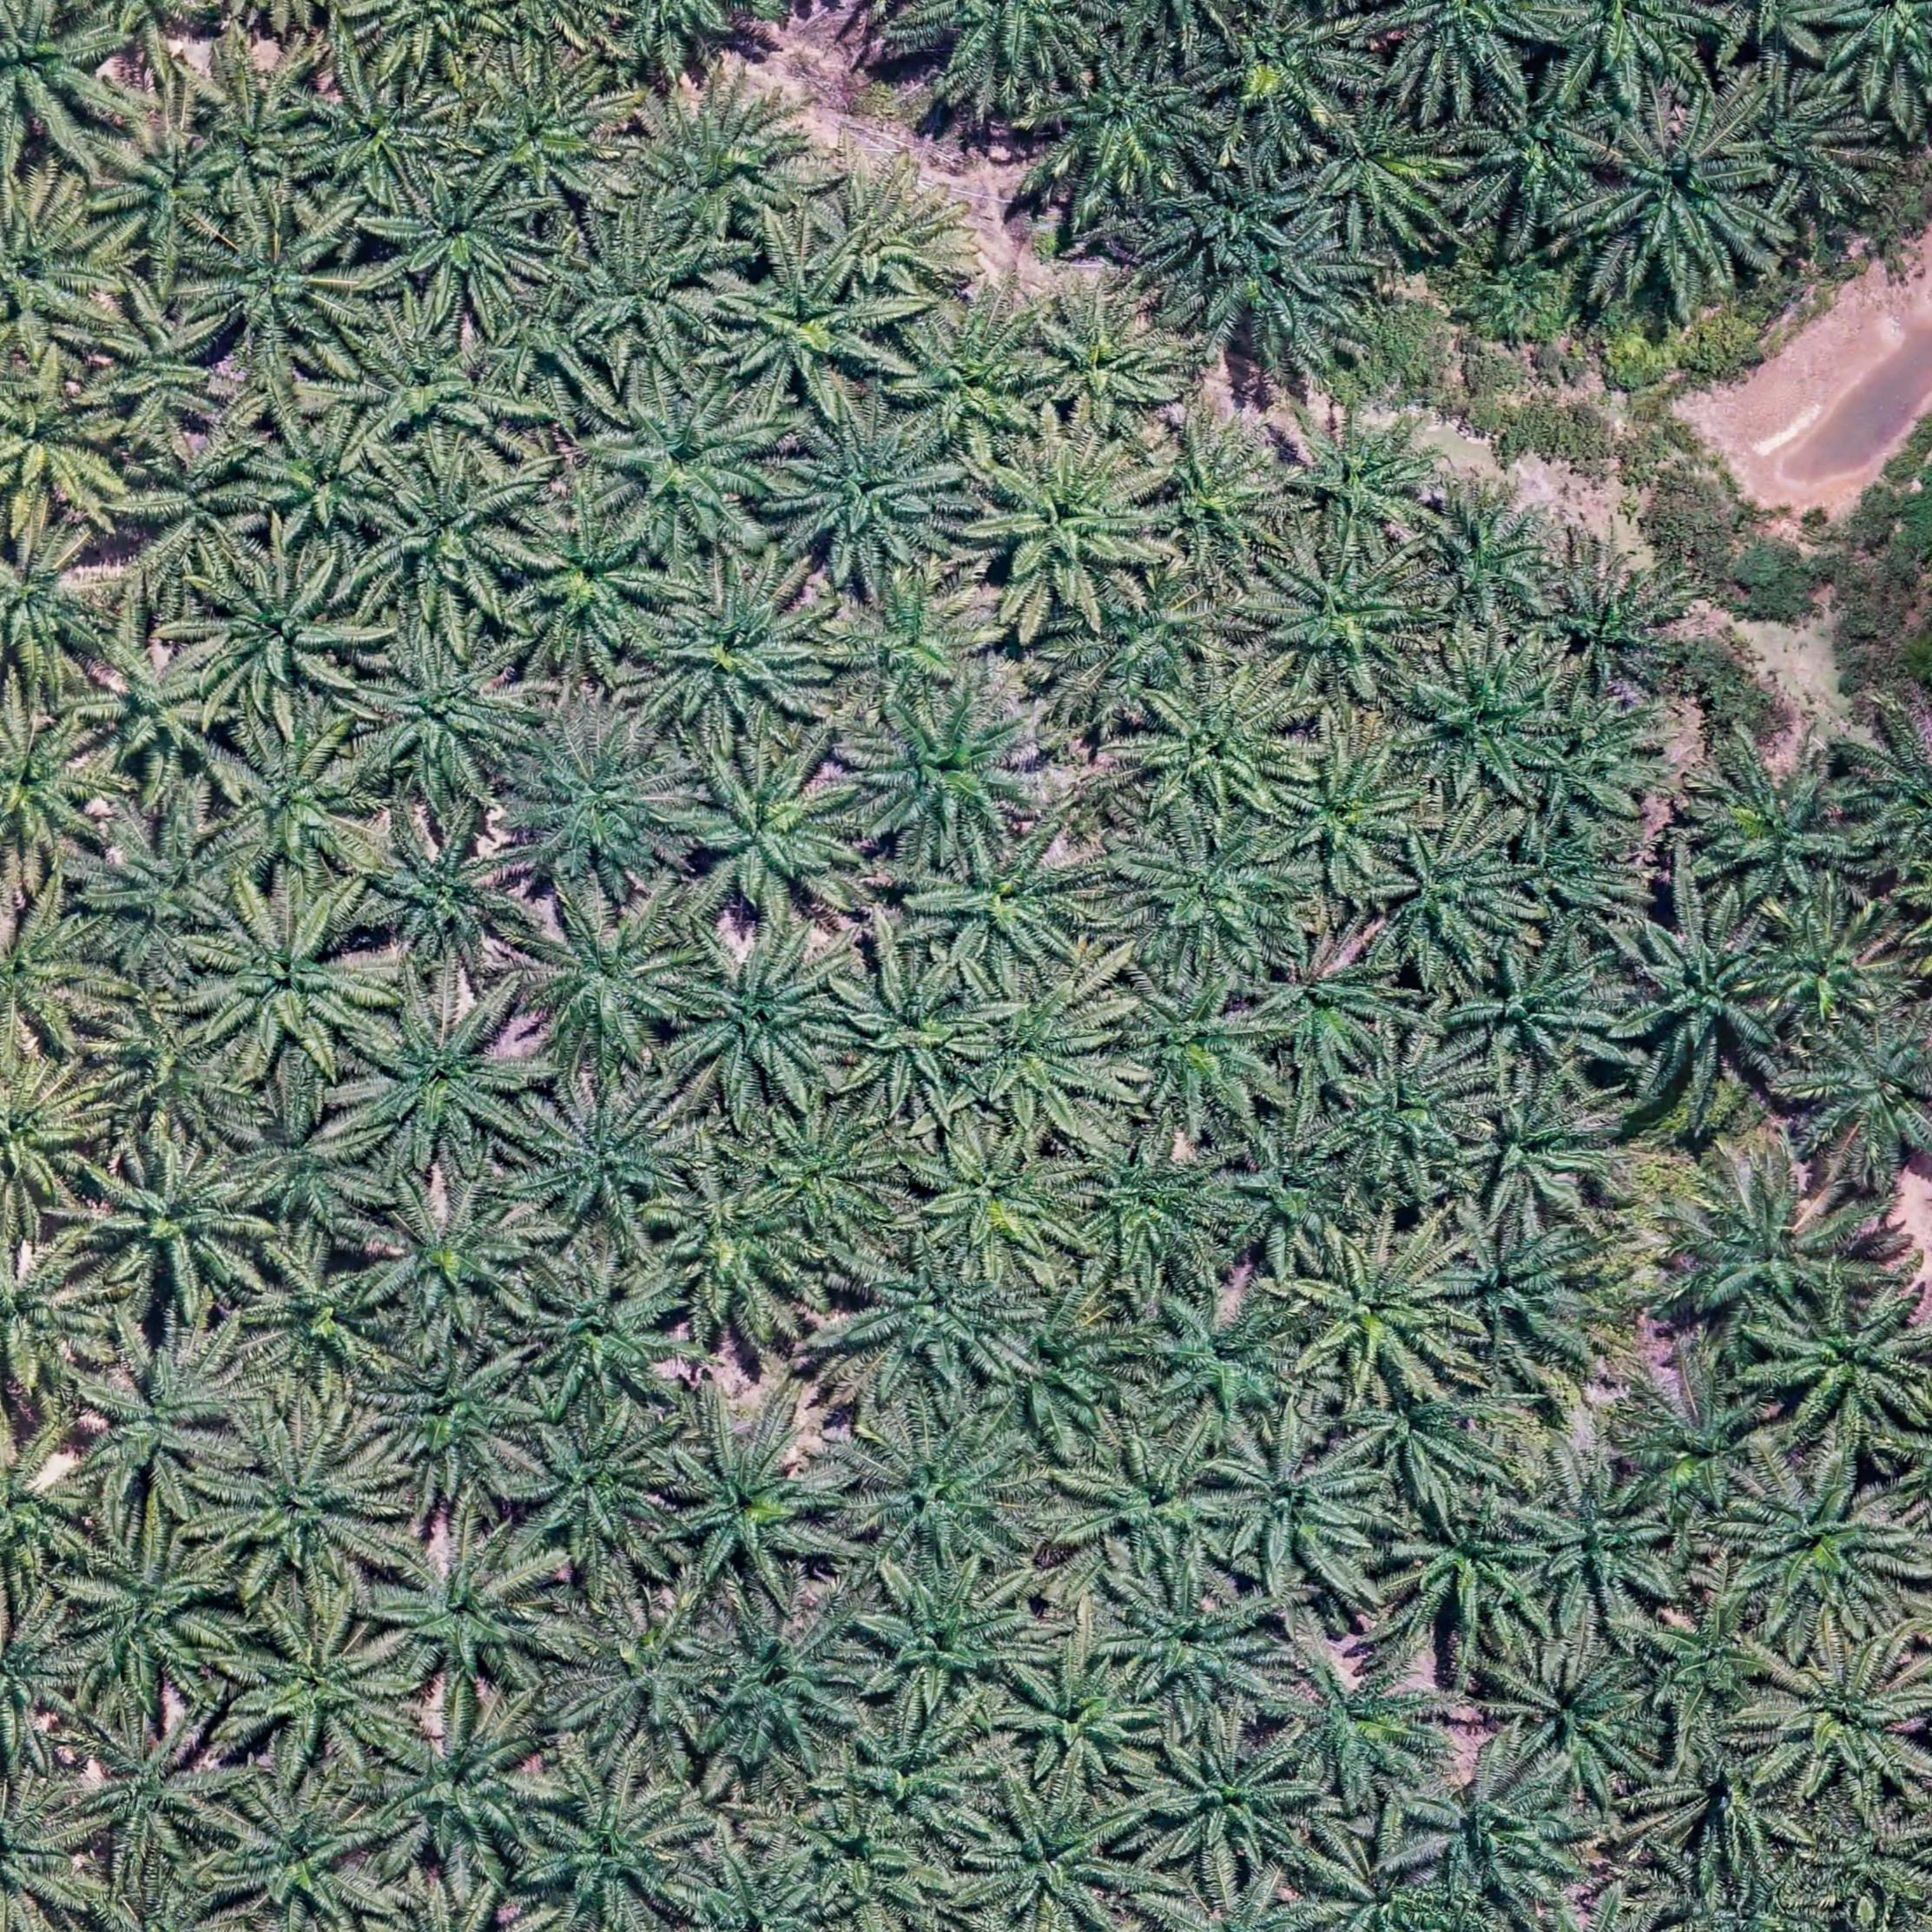palmtree: (1660, 1155, 1881, 1345), (363, 1698, 557, 1881), (663, 1405, 849, 1594), (640, 564, 835, 743), (202, 890, 393, 1070), (593, 373, 782, 554), (855, 686, 1053, 858), (218, 1410, 400, 1592), (58, 1523, 241, 1706), (679, 747, 863, 924), (1730, 1463, 1916, 1638), (88, 1136, 276, 1309), (71, 1329, 248, 1509), (228, 1605, 414, 1776), (510, 722, 692, 895), (354, 993, 538, 1164), (671, 934, 856, 1104), (978, 442, 1164, 612), (844, 1242, 1040, 1401), (373, 1529, 559, 1697), (1617, 902, 1790, 1079), (690, 1603, 870, 1771), (782, 418, 964, 584), (554, 1594, 734, 1760), (862, 1555, 1044, 1720), (853, 1415, 1044, 1571), (62, 1707, 239, 1875), (635, 92, 817, 255), (524, 897, 701, 1063), (196, 552, 375, 717), (1753, 1637, 1932, 1801), (1697, 755, 1875, 918), (361, 635, 534, 801), (368, 451, 541, 617), (1125, 671, 1307, 826), (1297, 1230, 1470, 1392), (1210, 1422, 1385, 1583), (527, 1769, 702, 1928), (196, 212, 372, 370), (913, 824, 1095, 975), (517, 1256, 686, 1417), (368, 1338, 540, 1497), (511, 1414, 685, 1571), (525, 1081, 699, 1238), (1063, 1431, 1244, 1582), (366, 1182, 540, 1338), (1599, 131, 1776, 283), (216, 1782, 395, 1932), (1120, 823, 1299, 973), (1766, 1284, 1932, 1445), (1491, 1644, 1663, 1798), (1279, 1640, 1451, 1794), (508, 497, 669, 660), (218, 724, 380, 883), (1516, 1465, 1683, 1621), (1076, 1129, 1242, 1284), (361, 814, 531, 966), (1619, 1373, 1789, 1525), (964, 978, 1127, 1136), (1723, 71, 1891, 223), (1044, 57, 1219, 202), (94, 809, 255, 966), (92, 993, 257, 1146), (1438, 1215, 1605, 1368), (1408, 1752, 1576, 1902), (1453, 1081, 1619, 1231), (731, 257, 897, 407), (970, 1790, 1145, 1932), (656, 1175, 821, 1325), (1111, 1571, 1284, 1713), (1115, 973, 1277, 1123), (1145, 1290, 1311, 1435), (1152, 1729, 1316, 1874), (821, 573, 991, 713), (120, 435, 274, 589), (80, 637, 232, 793), (833, 959, 989, 1111), (1269, 548, 1433, 692), (913, 1129, 1079, 1270), (0, 359, 131, 538), (375, 172, 540, 313), (890, 317, 1054, 458), (235, 1086, 387, 1238), (1394, 1500, 1555, 1644), (467, 62, 628, 205), (244, 1242, 403, 1385), (1139, 425, 1293, 571), (1798, 1008, 1932, 1177), (1286, 412, 1445, 554), (1414, 648, 1562, 798), (1033, 292, 1187, 437), (1460, 71, 1614, 216), (246, 414, 400, 556), (96, 292, 241, 439), (1077, 571, 1226, 715), (1753, 897, 1909, 1033), (1346, 1368, 1502, 1504), (1311, 96, 1460, 237), (0, 189, 124, 357), (0, 513, 117, 690), (347, 315, 495, 453), (299, 69, 451, 203), (1003, 1651, 1157, 1783), (0, 1224, 111, 1407), (1274, 748, 1419, 888), (1382, 828, 1532, 962), (101, 120, 241, 264), (759, 1106, 906, 1240), (1336, 1039, 1484, 1171), (577, 230, 725, 361), (1456, 945, 1606, 1072), (0, 704, 113, 869), (0, 1047, 106, 1223), (1256, 938, 1396, 1070), (1215, 0, 1364, 122), (1536, 0, 1718, 97), (812, 177, 966, 292), (1224, 1129, 1355, 1263), (1644, 1591, 1780, 1720), (846, 1707, 985, 1833), (0, 893, 108, 1054), (195, 74, 326, 207), (0, 0, 115, 150), (991, 1323, 1132, 1445), (0, 1414, 94, 1592), (1430, 497, 1562, 617), (1686, 1737, 1806, 1868), (793, 1796, 925, 1914), (1529, 704, 1665, 819), (0, 1598, 88, 1775), (1384, 0, 1557, 90), (1546, 571, 1675, 688), (0, 1775, 97, 1925), (927, 0, 1102, 83), (1851, 708, 1932, 886), (1302, 1836, 1454, 1932), (1813, 1801, 1932, 1920), (674, 1851, 844, 1932), (1453, 228, 1571, 341), (483, 294, 607, 395), (1187, 166, 1313, 265), (1430, 642, 1560, 731), (1513, 821, 1633, 916), (1822, 0, 1932, 97)
